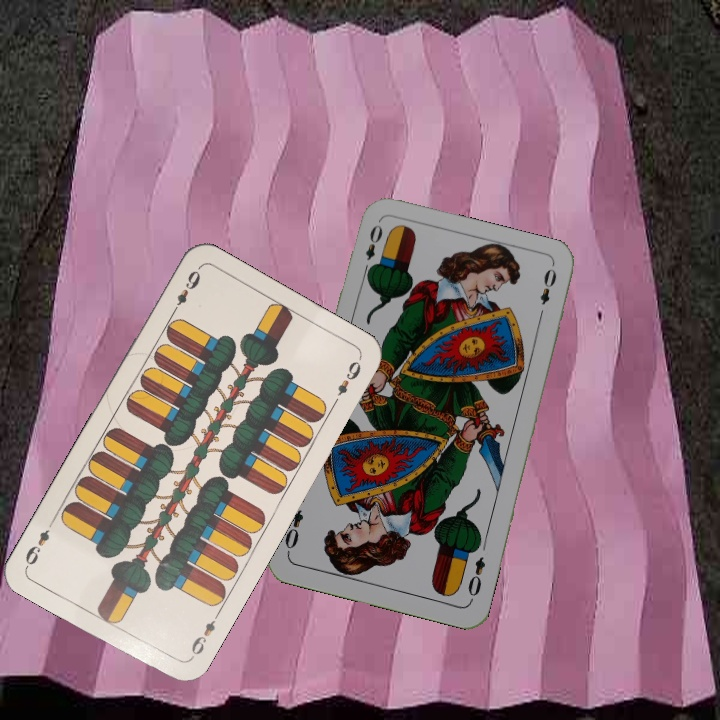E9: (167, 264, 204, 318), (185, 609, 222, 663)
EO: (359, 220, 385, 278), (464, 552, 488, 604)
